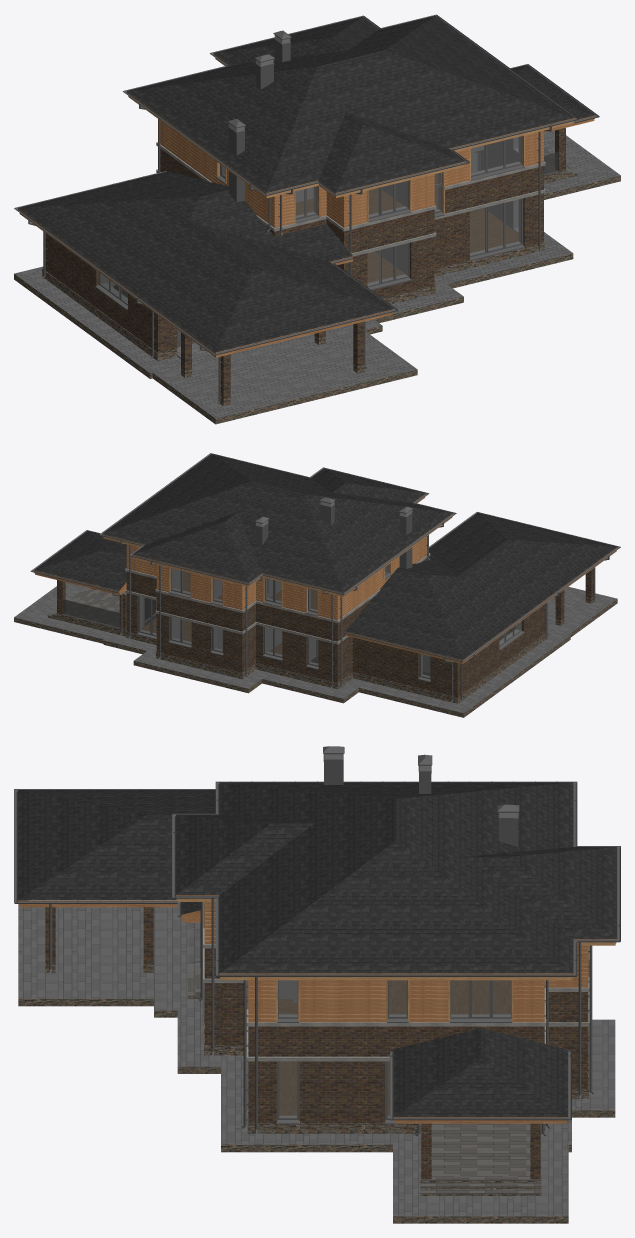
The picture shows the model from 3 angles, top to bottom: view 1: azimuth 30°, elevation 25°; view 2: azimuth 150°, elevation 25°; view 3: azimuth 270°, elevation 25°; orthographic projection. The views are drawn at different scales.
Parts seen in each view (by area): view 1: Material22, Material31, Material3, Material5, Material6, Material15, Material39, Material16, Material45, Material38, Material11, Material8; view 2: Material22, Material3, Material31, Material6, Material5, Material15, Material39, Material19, Material45, Material38, Material11, Material8 (+1 smaller); view 3: Material22, Material31, Material3, Material5, Material6, Material15, Material19, Material39, Material16, Material45, Material38.
Part boxes in pixels (<box>): Material22: <box>18,15,595,352</box>; Material31: <box>14,130,620,418</box>; Material3: <box>43,128,565,398</box>; Material5: <box>18,53,595,357</box>; Material6: <box>14,14,599,404</box>; Material15: <box>14,171,620,424</box>; Material39: <box>100,136,558,303</box>; Material16: <box>296,174,518,282</box>; Material45: <box>156,142,545,256</box>; Material38: <box>99,136,523,346</box>; Material11: <box>107,139,518,286</box>; Material8: <box>100,136,521,303</box>; Material22: <box>34,454,617,659</box>; Material3: <box>57,556,593,697</box>; Material31: <box>14,582,617,713</box>; Material6: <box>30,453,620,702</box>; Material5: <box>34,493,617,663</box>; Material15: <box>14,596,617,717</box>; Material39: <box>63,565,520,677</box>; Material19: <box>47,587,510,675</box>; Material45: <box>122,553,430,644</box>; Material38: <box>138,564,521,679</box>; Material11: <box>142,569,429,672</box>; Material8: <box>140,566,520,677</box>; Material22: <box>18,782,616,1116</box>; Material31: <box>18,904,615,1216</box>; Material3: <box>45,907,588,1179</box>; Material5: <box>18,895,616,1123</box>; Material6: <box>14,746,620,1136</box>; Material15: <box>18,959,615,1223</box>; Material19: <box>187,968,541,1194</box>; Material39: <box>278,980,510,1117</box>; Material16: <box>279,980,510,1115</box>; Material45: <box>203,902,589,1061</box>; Material38: <box>276,980,511,1120</box>.
Bounding box in the file's own units: 29.89 × 10.32 × 22.29.
29 materials, 14 textured.
